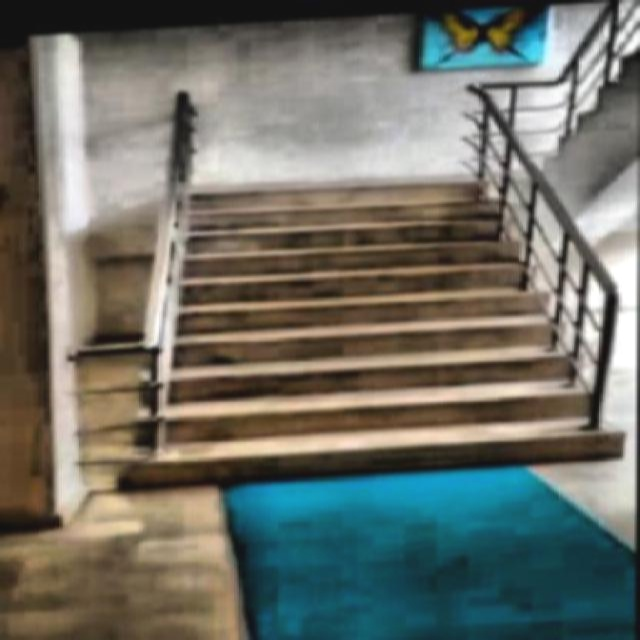stair: (110, 161, 633, 490)
